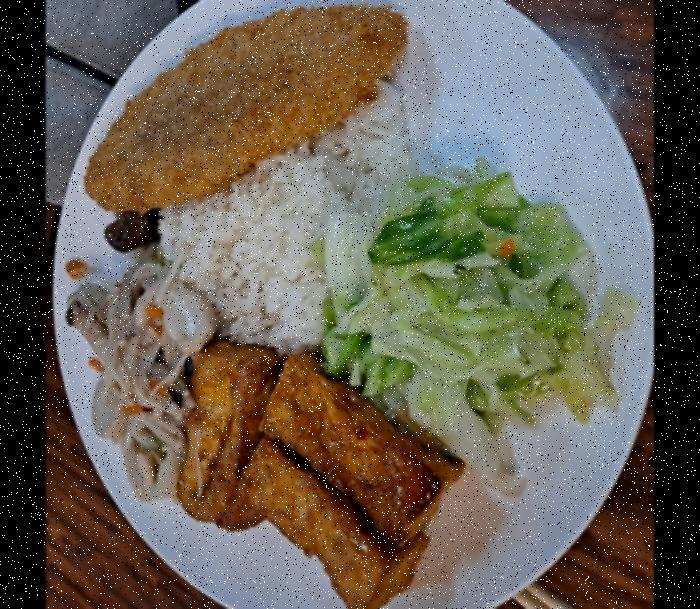big fried chicken leg: (52, 0, 653, 609)
big herbal chicken leg: (162, 85, 410, 346)
braised fish fillet: (317, 166, 637, 479), (178, 343, 465, 609), (60, 265, 212, 505)
braised pork: (83, 1, 407, 210)
